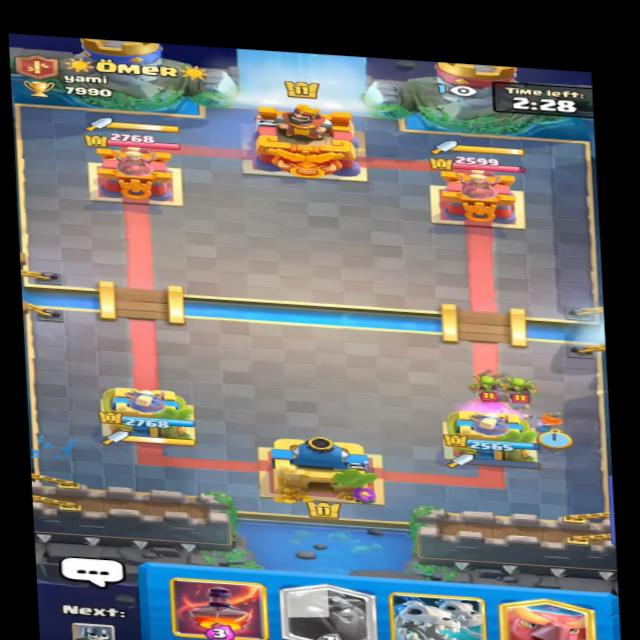goblin: (461, 371, 507, 399), (499, 371, 540, 400)
